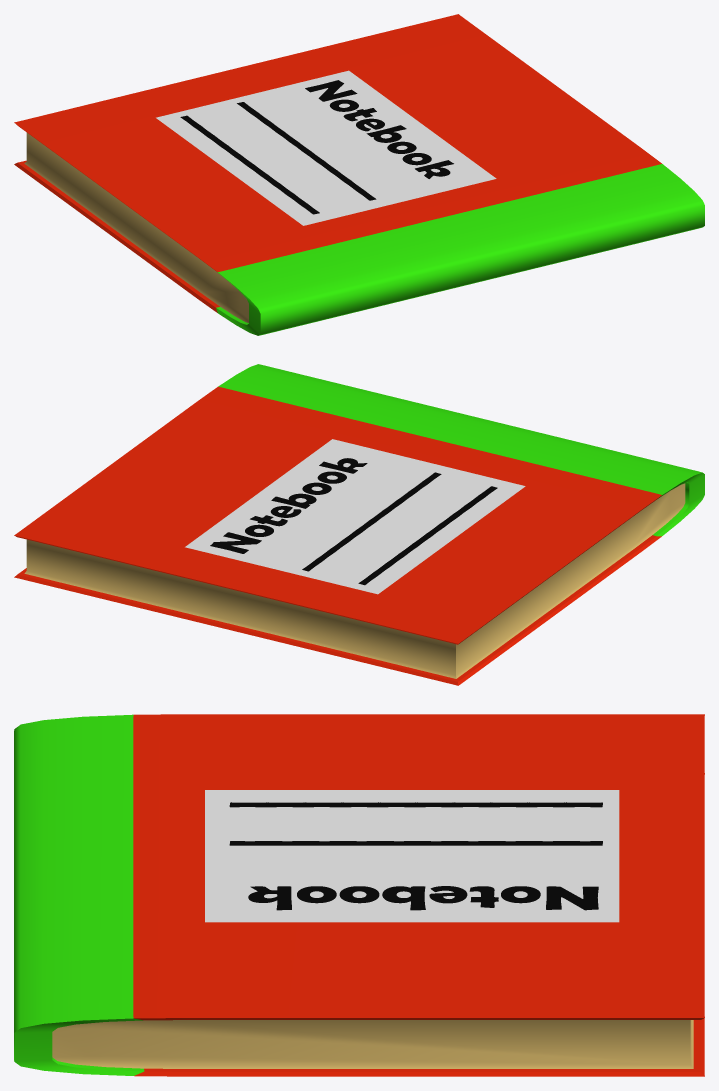
The model's file is Notebook_v2.fbx.
3 views of the same model, one above another, from view 1: azimuth 30°, elevation 25°; view 2: azimuth 150°, elevation 25°; view 3: azimuth 270°, elevation 25° (orthographic). The views are drawn at different scales.
Parts seen in each view (by area): view 1: Cube, Plane, Text; view 2: Cube, Plane, Text; view 3: Cube, Plane, Text.
Boxes of the visible parts, box(x1,y1,x2,y2) form: Cube: box(14, 14, 704, 335); Plane: box(156, 70, 496, 225); Text: box(180, 80, 453, 214); Cube: box(14, 364, 704, 685); Plane: box(185, 439, 525, 594); Text: box(210, 458, 497, 585); Cube: box(14, 714, 704, 1076); Plane: box(205, 790, 619, 922); Text: box(229, 802, 602, 910).
Bounding box in the file's own units: 209 × 18.95 × 200.
